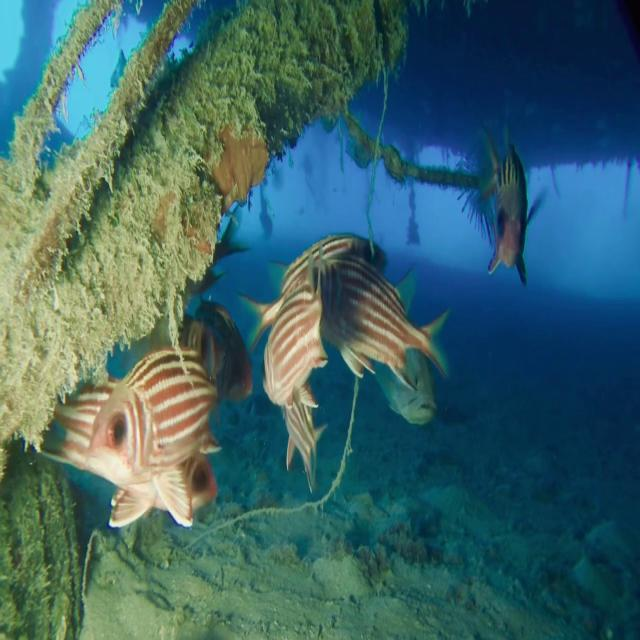Asker Baligi: (92, 327, 226, 516), (255, 282, 338, 415), (471, 140, 541, 286)
